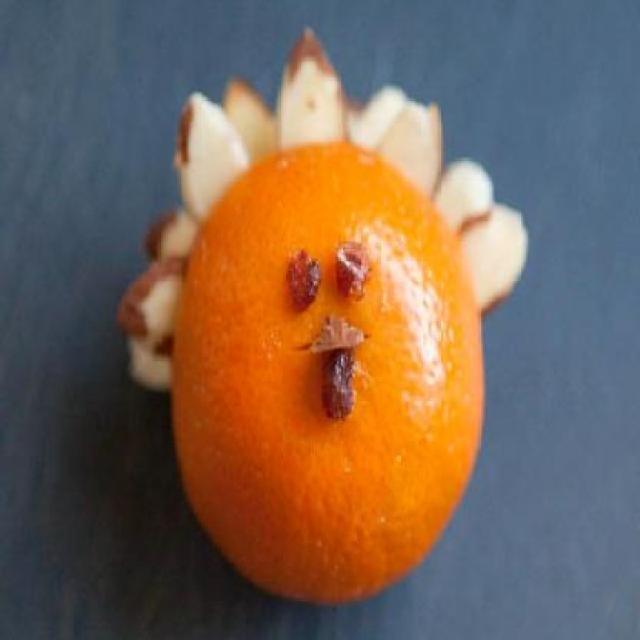Orange: (168, 138, 486, 604)
